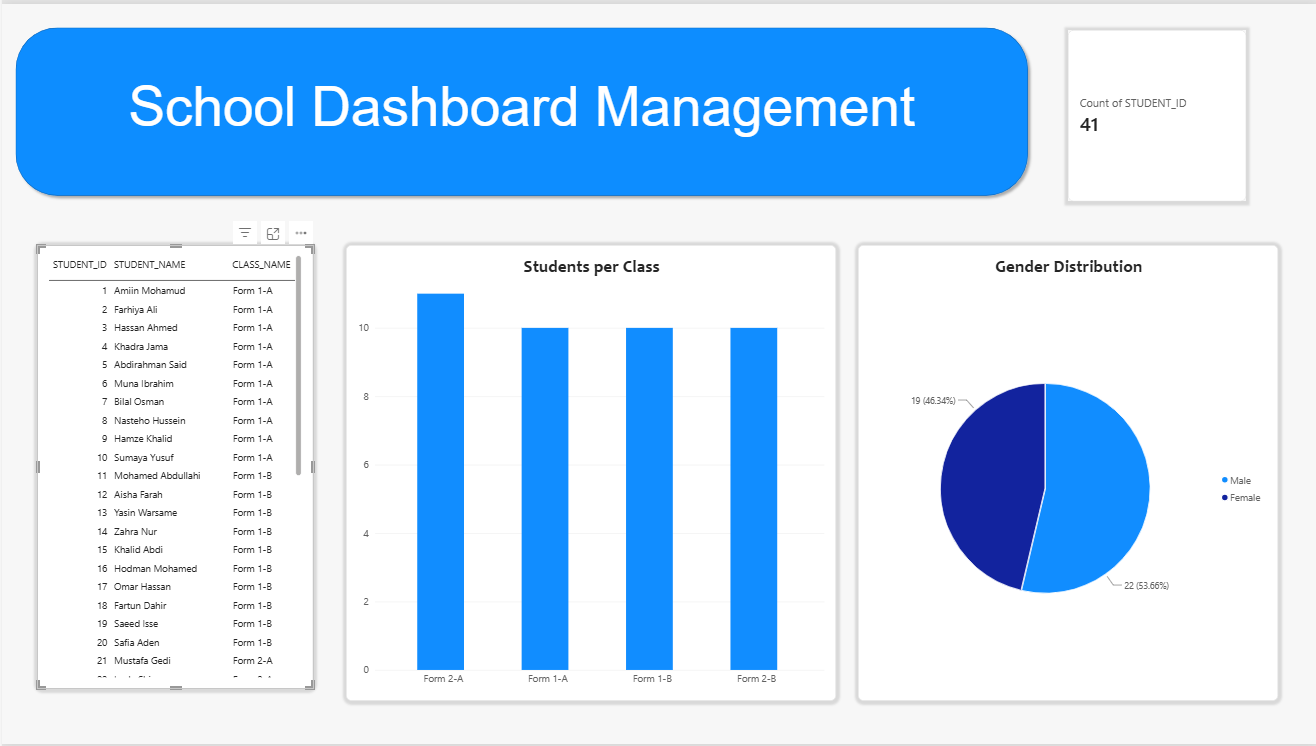

Layout of this report page (visuals, bound fields, positions):
{"tool":"powerbi","page":{"name":"Page 1","canvas":[1920,1080],"ordinal":0},"visuals":[{"type":"tableEx","fields":{"Values":["JOINS QUERY.STUDENT_ID","JOINS QUERY.STUDENT_NAME","JOINS QUERY.CLASS_NAME"]},"box":[51.7,351.7,403.3,648.3],"z":0},{"type":"clusteredColumnChart","title":"Students per Class","fields":{"Category":["JOINS QUERY.CLASS_NAME"],"Y":["CountNonNull(JOINS QUERY.STUDENT_ID)"]},"box":[501.7,351.7,715,665],"z":1000},{"type":"pieChart","title":"Gender Distribution","fields":{"Category":["JOINS QUERY.GENDER"],"Y":["CountNonNull(JOINS QUERY.STUDENT_ID)"]},"box":[1248.3,351.7,613.3,665],"z":2000},{"type":"shape","box":[11.7,26.7,1493.3,261.7],"z":3000},{"type":"textbox","box":[135,105,1245,300],"z":4000},{"type":"cardVisual","title":"Total Students","fields":{"Data":["CountNonNull(JOINS QUERY.STUDENT_ID)"]},"box":[1555,38.3,260,250],"z":4001}]}

Visuals, with their boxes in screenshot pixels (x1, y1, x2, y2), scaled from the page's 1920x1080 canvas onto the 1316x746 screenshot:
tableEx - JOINS QUERY.STUDENT_ID x JOINS QUERY.STUDENT_NAME: bbox(35, 243, 312, 691)
"Students per Class" clusteredColumnChart: bbox(344, 243, 834, 702)
"Gender Distribution" pieChart: bbox(856, 243, 1276, 702)
shape: bbox(8, 18, 1032, 199)
textbox: bbox(93, 73, 946, 280)
"Total Students" cardVisual: bbox(1066, 26, 1244, 199)
